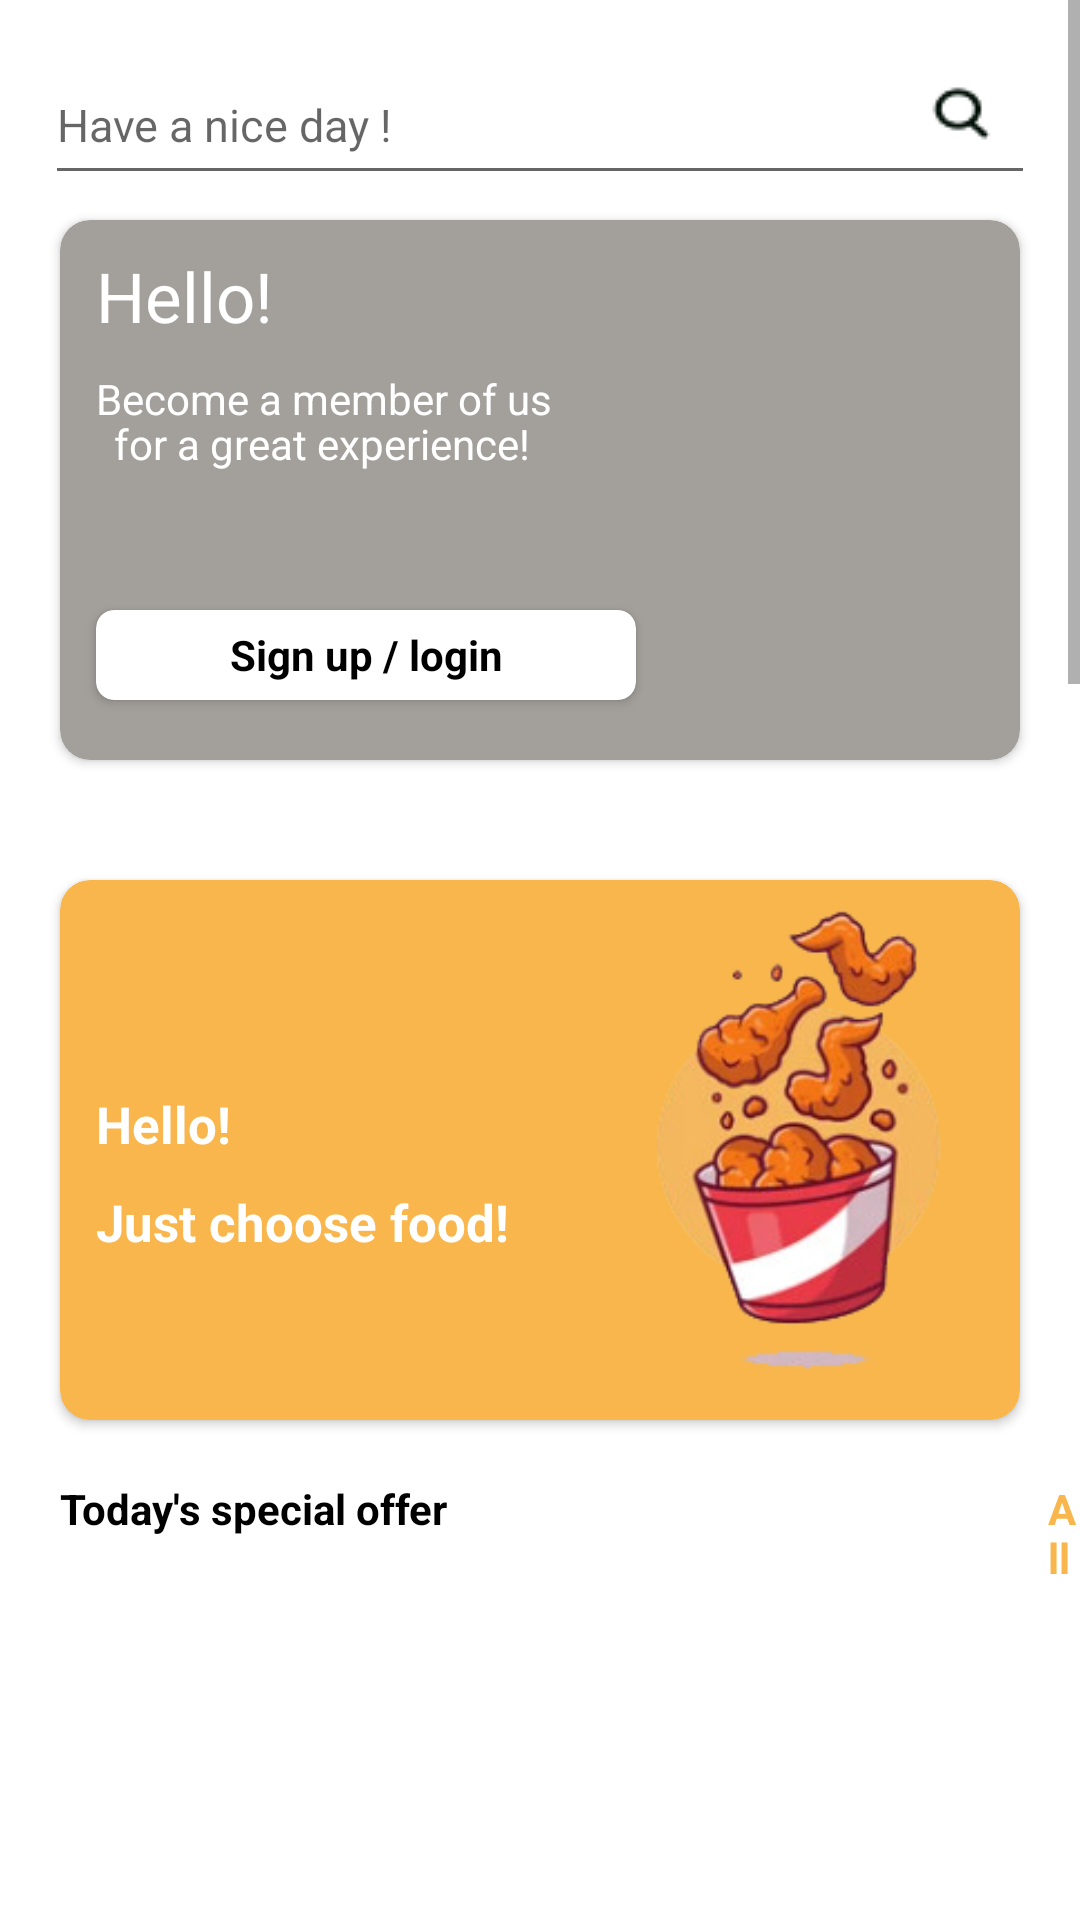

Icons on this 1080w x 1920h Android screen, each with its box as (x1, y1, x2, y2):
search: (932, 87, 990, 140)
